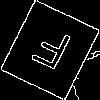F: (25, 24, 75, 80)
